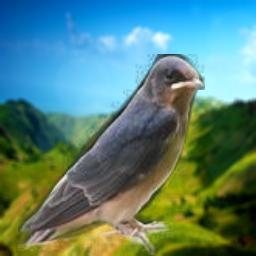Swallow: (18, 54, 205, 255)
